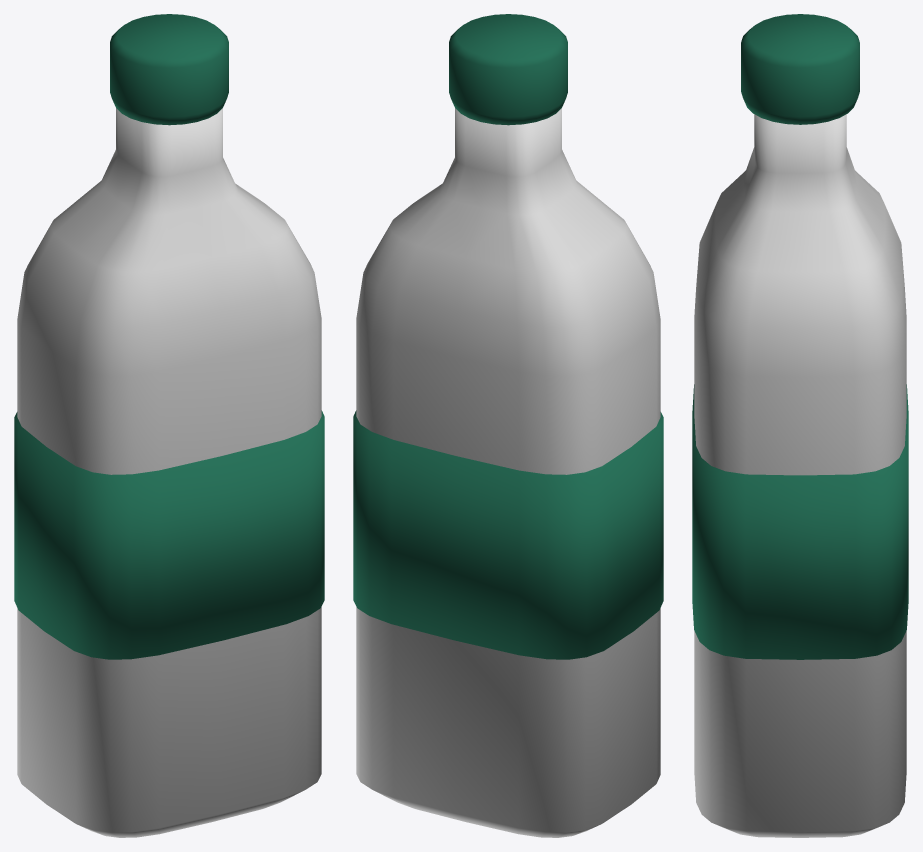
The model's file is oil-bottle.glb.
3 views of the same model, side by side, from view 1: azimuth 30°, elevation 25°; view 2: azimuth 150°, elevation 25°; view 3: azimuth 270°, elevation 25° (orthographic).
Visible parts, largest first — view 1: body, band, cap; view 2: body, band, cap; view 3: body, band, cap.
Part boxes in pixels (x1,y1,x2,y2): body: [17, 108, 321, 837]; band: [14, 410, 324, 659]; cap: [110, 14, 228, 125]; body: [356, 108, 660, 837]; band: [353, 410, 663, 659]; cap: [449, 14, 567, 125]; body: [694, 114, 906, 837]; band: [692, 384, 908, 659]; cap: [741, 14, 859, 124].
Size of the model in its own units: 0.4 by 1.15 by 0.3.
